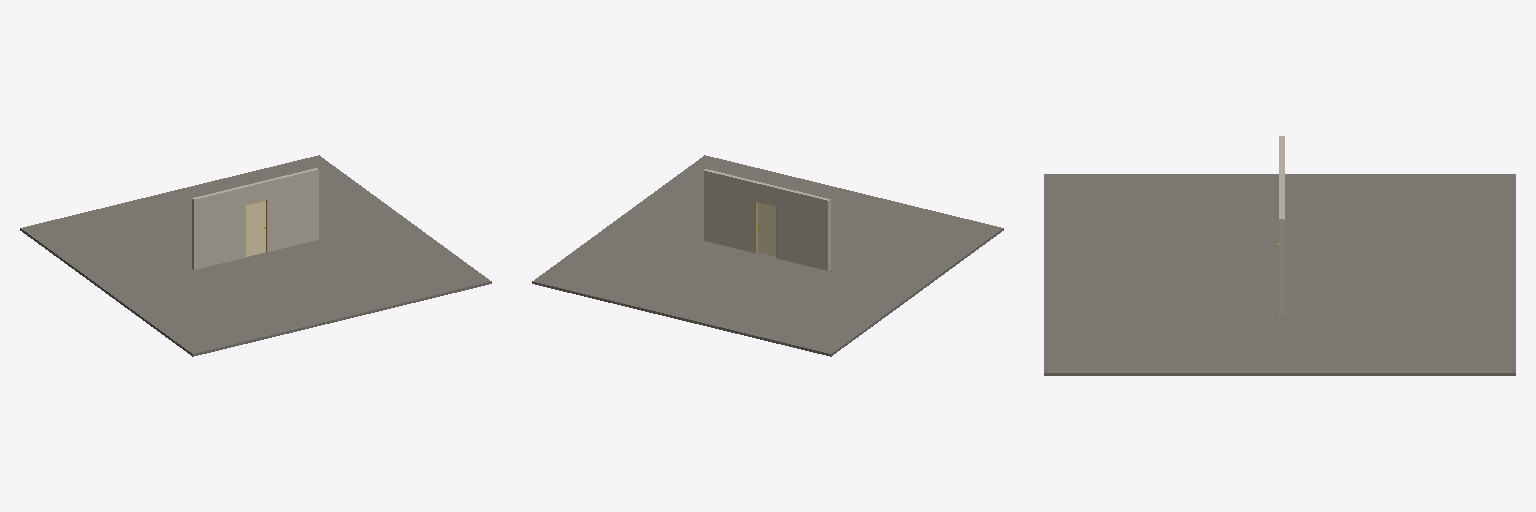
robot.urdf — db0642_swing_single_minimal:
<?xml version="1.0" ?>
<robot xmlns:doorbench="https://github.com/adamraudonis/DoorBench/schema/urdf-ext" name="db0642_swing_single_minimal">
  <link name="world_env">
    <visual name="floor_vis">
      <origin xyz="0 0 -0.05" rpy="0 0 0"/>
      <geometry>
        <box size="12 12 0.1"/>
      </geometry>
      <material name="mat_floor"/>
    </visual>
    <collision name="floor_col">
      <origin xyz="0 0 -0.05" rpy="0 0 0"/>
      <geometry>
        <box size="12 12 0.1"/>
      </geometry>
    </collision>
    <visual name="wall_left_vis">
      <origin xyz="-1.4645 0.048 1.35" rpy="0 0 0"/>
      <geometry>
        <box size="2.071 0.145 2.7"/>
      </geometry>
      <material name="mat_wall"/>
    </visual>
    <collision name="wall_left_col">
      <origin xyz="-1.4645 0.048 1.35" rpy="0 0 0"/>
      <geometry>
        <box size="2.071 0.145 2.7"/>
      </geometry>
    </collision>
    <visual name="wall_right_vis">
      <origin xyz="1.4795 0.048 1.35" rpy="0 0 0"/>
      <geometry>
        <box size="2.041 0.145 2.7"/>
      </geometry>
      <material name="mat_wall"/>
    </visual>
    <collision name="wall_right_col">
      <origin xyz="1.4795 0.048 1.35" rpy="0 0 0"/>
      <geometry>
        <box size="2.041 0.145 2.7"/>
      </geometry>
    </collision>
    <visual name="wall_header_vis">
      <origin xyz="0.015 0.048 2.3735" rpy="0 0 0"/>
      <geometry>
        <box size="0.888 0.145 0.653"/>
      </geometry>
      <material name="mat_wall"/>
    </visual>
    <collision name="wall_header_col">
      <origin xyz="0.015 0.048 2.3735" rpy="0 0 0"/>
      <geometry>
        <box size="0.888 0.145 0.653"/>
      </geometry>
    </collision>
    <visual name="jamb_hinge_vis">
      <origin xyz="-0.4195 0.048 0.999" rpy="0 0 0"/>
      <geometry>
        <box size="0.019 0.145 1.998"/>
      </geometry>
      <material name="mat_frame"/>
    </visual>
    <collision name="jamb_hinge_col">
      <origin xyz="-0.4195 0.048 0.999" rpy="0 0 0"/>
      <geometry>
        <box size="0.019 0.145 1.998"/>
      </geometry>
    </collision>
    <visual name="strike_965_wall_n_vis">
      <origin xyz="0.4345 0.064175 0.965" rpy="0 0 0"/>
      <geometry>
        <box size="0.049 0.11265 0.0334"/>
      </geometry>
      <material name="mat_frame"/>
    </visual>
    <collision name="strike_965_wall_n_col">
      <origin xyz="0.4345 0.064175 0.965" rpy="0 0 0"/>
      <geometry>
        <box size="0.049 0.11265 0.0334"/>
      </geometry>
    </collision>
    <visual name="strike_965_wall_p_vis">
      <origin xyz="0.4345 -0.01585 0.965" rpy="0 0 0"/>
      <geometry>
        <box size="0.049 0.016 0.0334"/>
      </geometry>
      <material name="mat_frame"/>
    </visual>
    <collision name="strike_965_wall_p_col">
      <origin xyz="0.4345 -0.01585 0.965" rpy="0 0 0"/>
      <geometry>
        <box size="0.049 0.016 0.0334"/>
      </geometry>
    </collision>
    <visual name="strike_965_ramp_vis">
      <origin xyz="0.439136 -0.028673 0.965" rpy="0 0 0.428384"/>
      <geometry>
        <box size="0.049 0.03298 0.0334"/>
      </geometry>
      <material name="mat_frame"/>
    </visual>
    <collision name="strike_965_ramp_col">
      <origin xyz="0.439136 -0.028673 0.965" rpy="0 0 0.428384"/>
      <geometry>
        <box size="0.049 0.03298 0.0334"/>
      </geometry>
    </collision>
    <visual name="strike_965_back_vis">
      <origin xyz="0.44285 0 0.965" rpy="0 0 0"/>
      <geometry>
        <box size="0.0323 0.0157 0.0334"/>
      </geometry>
      <material name="mat_frame"/>
    </visual>
    <collision name="strike_965_back_col">
      <origin xyz="0.44285 0 0.965" rpy="0 0 0"/>
      <geometry>
        <box size="0.0323 0.0157 0.0334"/>
      </geometry>
    </collision>
    <visual name="jamb_strike_0_vis">
      <origin xyz="0.4345 0.048 0.47415" rpy="0 0 0"/>
      <geometry>
        <box size="0.049 0.145 0.9483"/>
      </geometry>
      <material name="mat_frame"/>
    </visual>
    <collision name="jamb_strike_0_col">
      <origin xyz="0.4345 0.048 0.47415" rpy="0 0 0"/>
      <geometry>
        <box size="0.049 0.145 0.9483"/>
      </geometry>
    </collision>
    <visual name="jamb_strike_1_vis">
      <origin xyz="0.4345 0.048 1.48985" rpy="0 0 0"/>
      <geometry>
        <box size="0.049 0.145 1.0163"/>
      </geometry>
      <material name="mat_frame"/>
    </visual>
    <collision name="jamb_strike_1_col">
      <origin xyz="0.4345 0.048 1.48985" rpy="0 0 0"/>
      <geometry>
        <box size="0.049 0.145 1.0163"/>
      </geometry>
    </collision>
    <visual name="jamb_head_vis">
      <origin xyz="0.015 0.048 2.0075" rpy="0 0 0"/>
      <geometry>
        <box size="0.888 0.145 0.019"/>
      </geometry>
      <material name="mat_frame"/>
    </visual>
    <collision name="jamb_head_col">
      <origin xyz="0.015 0.048 2.0075" rpy="0 0 0"/>
      <geometry>
        <box size="0.888 0.145 0.019"/>
      </geometry>
    </collision>
    <visual name="head_stud_vis">
      <origin xyz="0.015 0.048 2.032" rpy="0 0 0"/>
      <geometry>
        <box size="0.888 0.145 0.03"/>
      </geometry>
      <material name="mat_wall"/>
    </visual>
    <collision name="head_stud_col">
      <origin xyz="0.015 0.048 2.032" rpy="0 0 0"/>
      <geometry>
        <box size="0.888 0.145 0.03"/>
      </geometry>
    </collision>
    <visual name="stop_hinge_vis">
      <origin xyz="-0.4045 0.034 0.999" rpy="0 0 0"/>
      <geometry>
        <box size="0.011 0.032 1.998"/>
      </geometry>
      <material name="mat_frame"/>
    </visual>
    <collision name="stop_hinge_col">
      <origin xyz="-0.4045 0.034 0.999" rpy="0 0 0"/>
      <geometry>
        <box size="0.011 0.032 1.998"/>
      </geometry>
    </collision>
    <visual name="stop_strike_vis">
      <origin xyz="0.4045 0.034 0.999" rpy="0 0 0"/>
      <geometry>
        <box size="0.011 0.032 1.998"/>
      </geometry>
      <material name="mat_frame"/>
    </visual>
    <collision name="stop_strike_col">
      <origin xyz="0.4045 0.034 0.999" rpy="0 0 0"/>
      <geometry>
        <box size="0.011 0.032 1.998"/>
      </geometry>
    </collision>
    <visual name="stop_head_vis">
      <origin xyz="0 0.034 1.9925" rpy="0 0 0"/>
      <geometry>
        <box size="0.82 0.032 0.011"/>
      </geometry>
      <material name="mat_frame"/>
    </visual>
    <collision name="stop_head_col">
      <origin xyz="0 0.034 1.9925" rpy="0 0 0"/>
      <geometry>
        <box size="0.82 0.032 0.011"/>
      </geometry>
    </collision>
  </link>
  <link name="leaf">
    <inertial>
      <origin xyz="0.4065 0.0245 1.0015" rpy="0 0 0"/>
      <mass value="13.430918"/>
      <inertia ixx="4.411440976" ixy="0" ixz="0" iyy="5.149854939" iyz="0" izz="0.741156109"/>
    </inertial>
    <visual name="leaf_slab_vis">
      <origin xyz="0.4065 0.0245 1.0015" rpy="0 0 0"/>
      <geometry>
        <box size="0.813 0.035 1.985"/>
      </geometry>
      <material name="mat_leaf"/>
    </visual>
    <collision name="leaf_slab_col">
      <origin xyz="0.4065 0.0245 1.0015" rpy="0 0 0"/>
      <geometry>
        <box size="0.813 0.035 1.985"/>
      </geometry>
    </collision>
  </link>
  <link name="leaf_handle">
    <inertial>
      <origin xyz="0 0 0" rpy="0 0 0"/>
      <mass value="1.098683"/>
      <inertia ixx="0.003696071" ixy="0" ixz="0" iyy="0.000311555" iyz="0" izz="0.003696071"/>
    </inertial>
    <visual name="leaf_handle_knob_n_vis">
      <origin xyz="0 -0.0175 0" rpy="1.570796 0 0"/>
      <geometry>
        <mesh filename="../../hardware/knob_d1888f6f03.obj"/>
      </geometry>
      <material name="mat_op_brass"/>
    </visual>
    <visual name="leaf_handle_knob_col_n_vis">
      <origin xyz="0 -0.064 0" rpy="0 0 0"/>
      <geometry>
        <sphere radius="0.0243"/>
      </geometry>
      <material name="mat_op_brass"/>
    </visual>
    <collision name="leaf_handle_knob_col_n_col">
      <origin xyz="0 -0.064 0" rpy="0 0 0"/>
      <geometry>
        <sphere radius="0.0243"/>
      </geometry>
    </collision>
    <collision name="leaf_handle_knob_neck_n_col">
      <origin xyz="0 -0.0295 0" rpy="-1.570796 0 0"/>
      <geometry>
        <cylinder radius="0.011" length="0.024"/>
      </geometry>
    </collision>
    <visual name="leaf_handle_knob_p_vis">
      <origin xyz="0 0.0175 0" rpy="-1.570796 0 0"/>
      <geometry>
        <mesh filename="../../hardware/knob_d1888f6f03.obj"/>
      </geometry>
      <material name="mat_op_brass"/>
    </visual>
    <visual name="leaf_handle_knob_col_p_vis">
      <origin xyz="0 0.064 0" rpy="0 0 0"/>
      <geometry>
        <sphere radius="0.0243"/>
      </geometry>
      <material name="mat_op_brass"/>
    </visual>
    <collision name="leaf_handle_knob_col_p_col">
      <origin xyz="0 0.064 0" rpy="0 0 0"/>
      <geometry>
        <sphere radius="0.0243"/>
      </geometry>
    </collision>
    <collision name="leaf_handle_knob_neck_p_col">
      <origin xyz="0 0.0295 0" rpy="-1.570796 0 0"/>
      <geometry>
        <cylinder radius="0.011" length="0.024"/>
      </geometry>
    </collision>
  </link>
  <link name="leaf_latch_bolt">
    <inertial>
      <origin xyz="-0.00865 0 0" rpy="0 0 0"/>
      <mass value="0.041419"/>
      <inertia ixx="0.000000798" ixy="0" ixz="0" iyy="0.000005598" iyz="0" izz="0.000005598"/>
    </inertial>
    <visual name="leaf_latch_bolt_capsule_vis">
      <origin xyz="-0.00865 0 0" rpy="0 1.570796 0"/>
      <geometry>
        <cylinder radius="0.00635" length="0.03"/>
      </geometry>
      <material name="mat_bolt"/>
    </visual>
    <collision name="leaf_latch_bolt_capsule_col">
      <origin xyz="-0.00865 0 0" rpy="0 1.570796 0"/>
      <geometry>
        <cylinder radius="0.00635" length="0.03"/>
      </geometry>
    </collision>
  </link>
  <joint name="leaf_hinge" type="revolute">
    <origin xyz="-0.407 -0.0245 0" rpy="0 0 0"/>
    <parent link="world_env"/>
    <child link="leaf"/>
    <axis xyz="0 0 -1"/>
    <limit lower="0" upper="2.356194" effort="2000" velocity="10"/>
    <dynamics damping="0.206618" friction="0.529286"/>
    <doorbench:closer damping_closing="0" damping_opening="0" backcheck_angle="0" backcheck_damping="0"/>
  </joint>
  <joint name="leaf_handle_hinge" type="revolute">
    <origin xyz="0.753 0.0245 0.965" rpy="0 0 0"/>
    <parent link="leaf"/>
    <child link="leaf_handle"/>
    <axis xyz="0 -1 0"/>
    <limit lower="0" upper="0.87" effort="2000" velocity="10"/>
    <dynamics damping="0.143613" friction="0.038"/>
    <doorbench:spring stiffness="0.5" springref="-0.5" note="tau = -stiffness*(q - springref); not native URDF"/>
  </joint>
  <joint name="leaf_latch_bolt_slide" type="prismatic">
    <origin xyz="0.813 0.0245 0.965" rpy="0 0 0"/>
    <parent link="leaf"/>
    <child link="leaf_latch_bolt"/>
    <axis xyz="-1 0 0"/>
    <limit lower="0" upper="0.0127" effort="5000" velocity="10"/>
    <dynamics damping="2" friction="0.3"/>
    <doorbench:spring stiffness="300" springref="-0.008333" note="tau = -stiffness*(q - springref); not native URDF"/>
    <mimic joint="leaf_handle_hinge" multiplier="0.015679" offset="0"/>
    <doorbench:coupling one_sided="true" note="MJCF uses a one-sided tendon (bolt may retract further, e.g. riding over the strike lip); mimic is bilateral"/>
  </joint>
  <material name="mat_bolt">
    <color rgba="0.85 0.66 0.3 1"/>
  </material>
  <material name="mat_floor">
    <color rgba="0.55 0.53 0.5 1"/>
  </material>
  <material name="mat_frame">
    <color rgba="0.82 0.7 0.5 1"/>
  </material>
  <material name="mat_leaf">
    <color rgba="0.93 0.88 0.74 1"/>
  </material>
  <material name="mat_op_brass">
    <color rgba="0.85 0.66 0.3 1"/>
  </material>
  <material name="mat_wall">
    <color rgba="0.78 0.76 0.7 1"/>
  </material>
</robot>

--- Render facts (derived) ---
3 views of the same robot in one strip: view 1: azimuth 30°, elevation 25°; view 2: azimuth 150°, elevation 25°; view 3: azimuth 270°, elevation 25° (orthographic).
Model db0642_swing_single_minimal with 4 links and 3 joints (2 revolute, 1 prismatic), rooted at world_env, posed all joints at 0.
Links seen in each view (by area): view 1: world_env, leaf; view 2: world_env, leaf; view 3: world_env.
Link boxes in pixels (x1=…): world_env: x1=20, y1=155, x2=491, y2=356; leaf: x1=246, y1=201, x2=265, y2=256; world_env: x1=532, y1=155, x2=1003, y2=356; leaf: x1=758, y1=202, x2=775, y2=256; world_env: x1=1044, y1=136, x2=1515, y2=375.
Size in the robot's own frame: 12 by 12 by 2.8 metres.
2 mesh visuals loaded from 1 distinct referenced files (1 OBJ).
